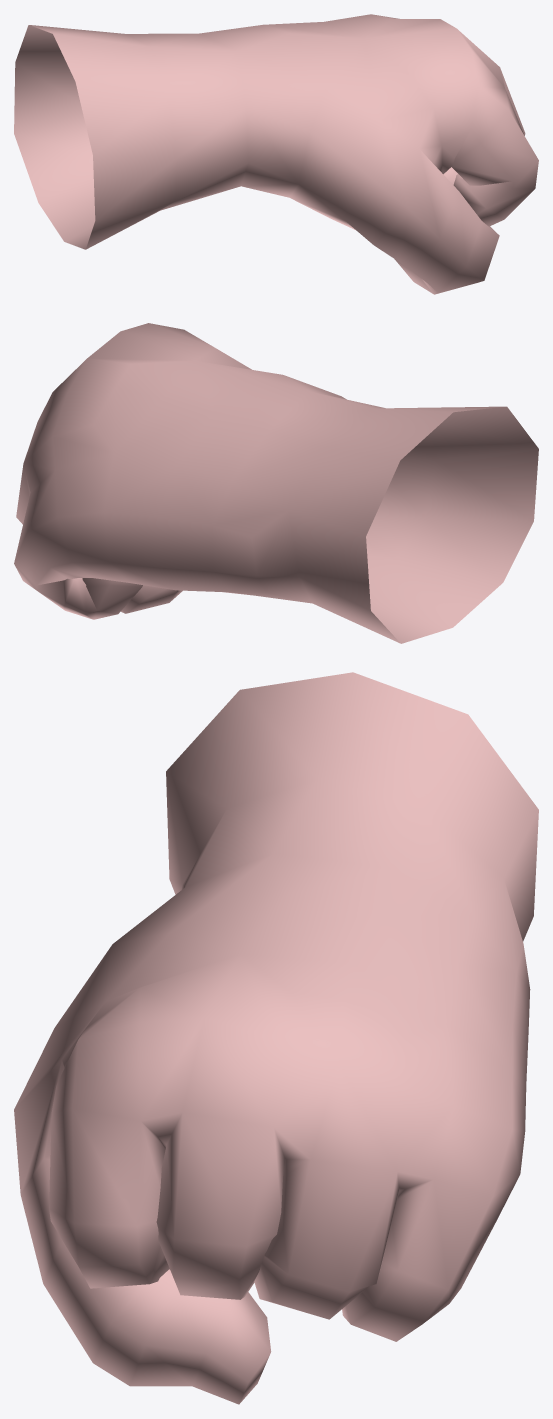
File: Nendoroid_A_Hand02.fbx
3 renders of one model, top to bottom at view 1: azimuth 30°, elevation 25°; view 2: azimuth 150°, elevation 25°; view 3: azimuth 270°, elevation 25°, orthographic. The views are drawn at different scales.
Parts seen in each view (by area): view 1: Nendoroid_A_Hand02; view 2: Nendoroid_A_Hand02; view 3: Nendoroid_A_Hand02.
Part boxes in pixels (x1=…): Nendoroid_A_Hand02: x1=14, y1=14, x2=538, y2=294; Nendoroid_A_Hand02: x1=14, y1=323, x2=538, y2=643; Nendoroid_A_Hand02: x1=14, y1=672, x2=538, y2=1404.
Bounding box in the file's own units: 0.4202 × 0.2696 × 0.2786.
